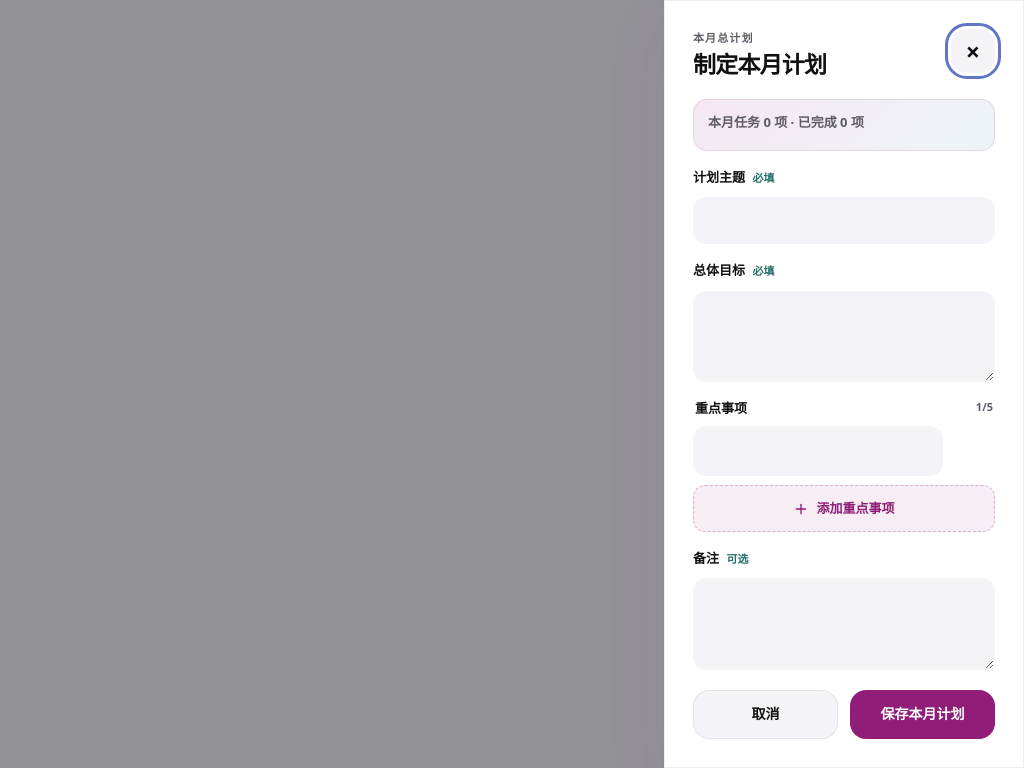
Test: RangePlanDrawer › shows field validation without closing
Step 1. Click the button "保存本月计划" → (922, 714), box x1=850 y1=690 x2=995 y2=739
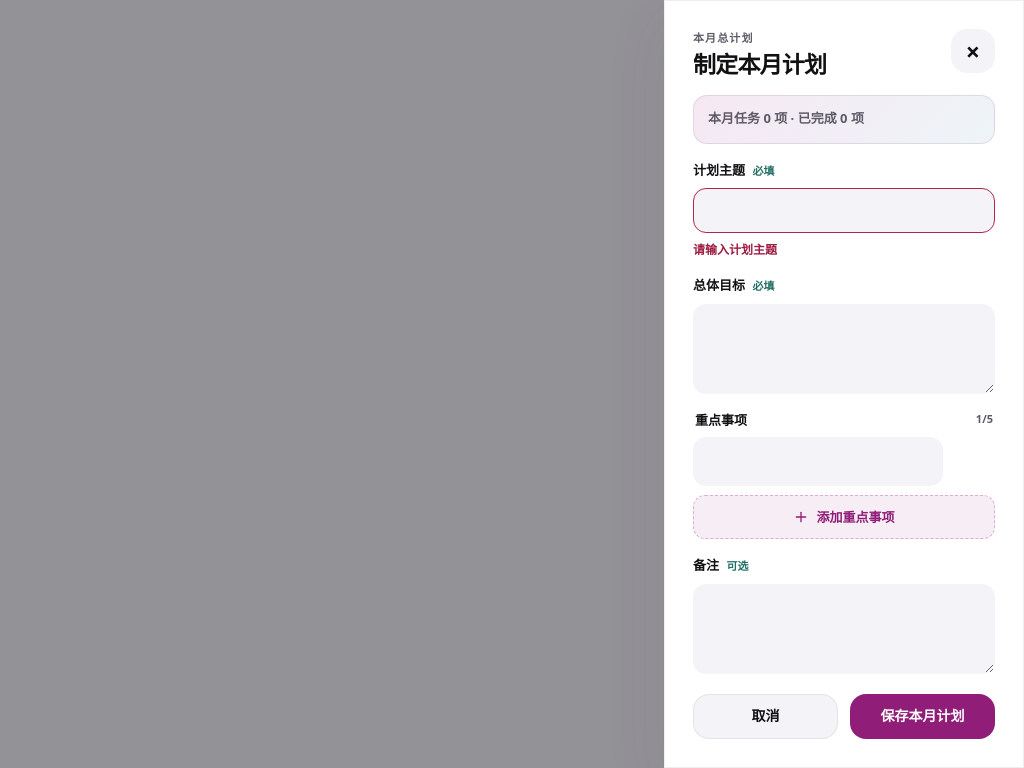
Expected: the dialog "制定本月计划" is shown, x1=664 y1=0 x2=1023 y2=767
Expected: the message reads "请输入计划主题", x1=693 y1=241 x2=777 y2=258
